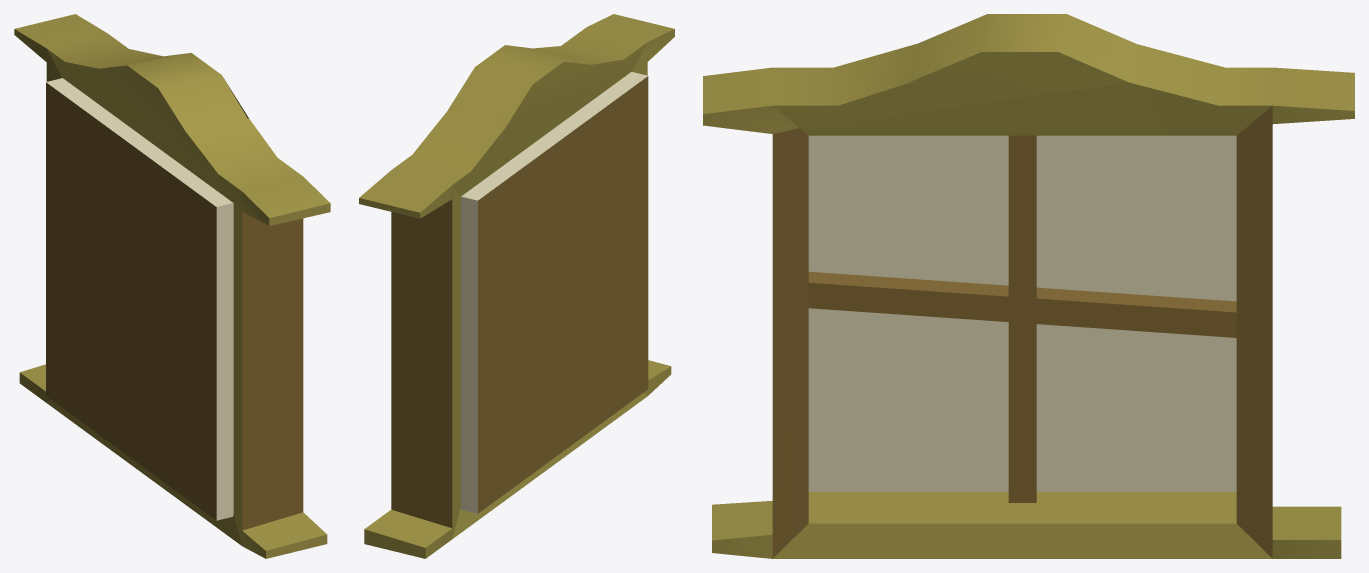
File: Fenetre.fbx
3 views of the same model, side by side, from view 1: azimuth 30°, elevation 25°; view 2: azimuth 150°, elevation 25°; view 3: azimuth 270°, elevation 25° (orthographic). The views are drawn at different scales.
Visible parts, largest first — view 1: pCube4, pCube1; view 2: pCube4, pCube1; view 3: pCube4, pCube1, pCube3, pCube2.
Boxes of the visible parts, x1,y1,x2,y2 form: pCube4: [46, 78, 233, 520]; pCube1: [14, 14, 330, 558]; pCube4: [461, 71, 648, 513]; pCube1: [359, 14, 674, 558]; pCube4: [808, 135, 1236, 491]; pCube1: [703, 14, 1354, 558]; pCube3: [808, 271, 1236, 337]; pCube2: [1008, 135, 1036, 502].
Bounding box in the file's own units: 3.92 × 19.96 × 23.27.
